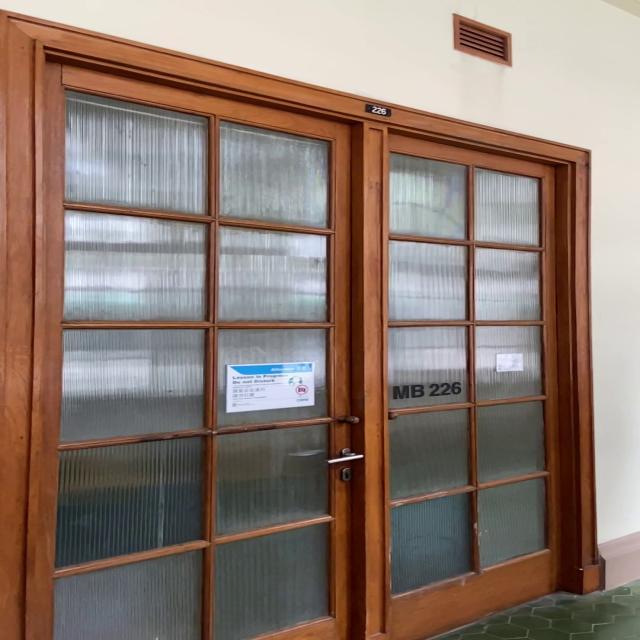room226: (362, 101, 394, 118)
room226Window: (389, 381, 466, 402)
